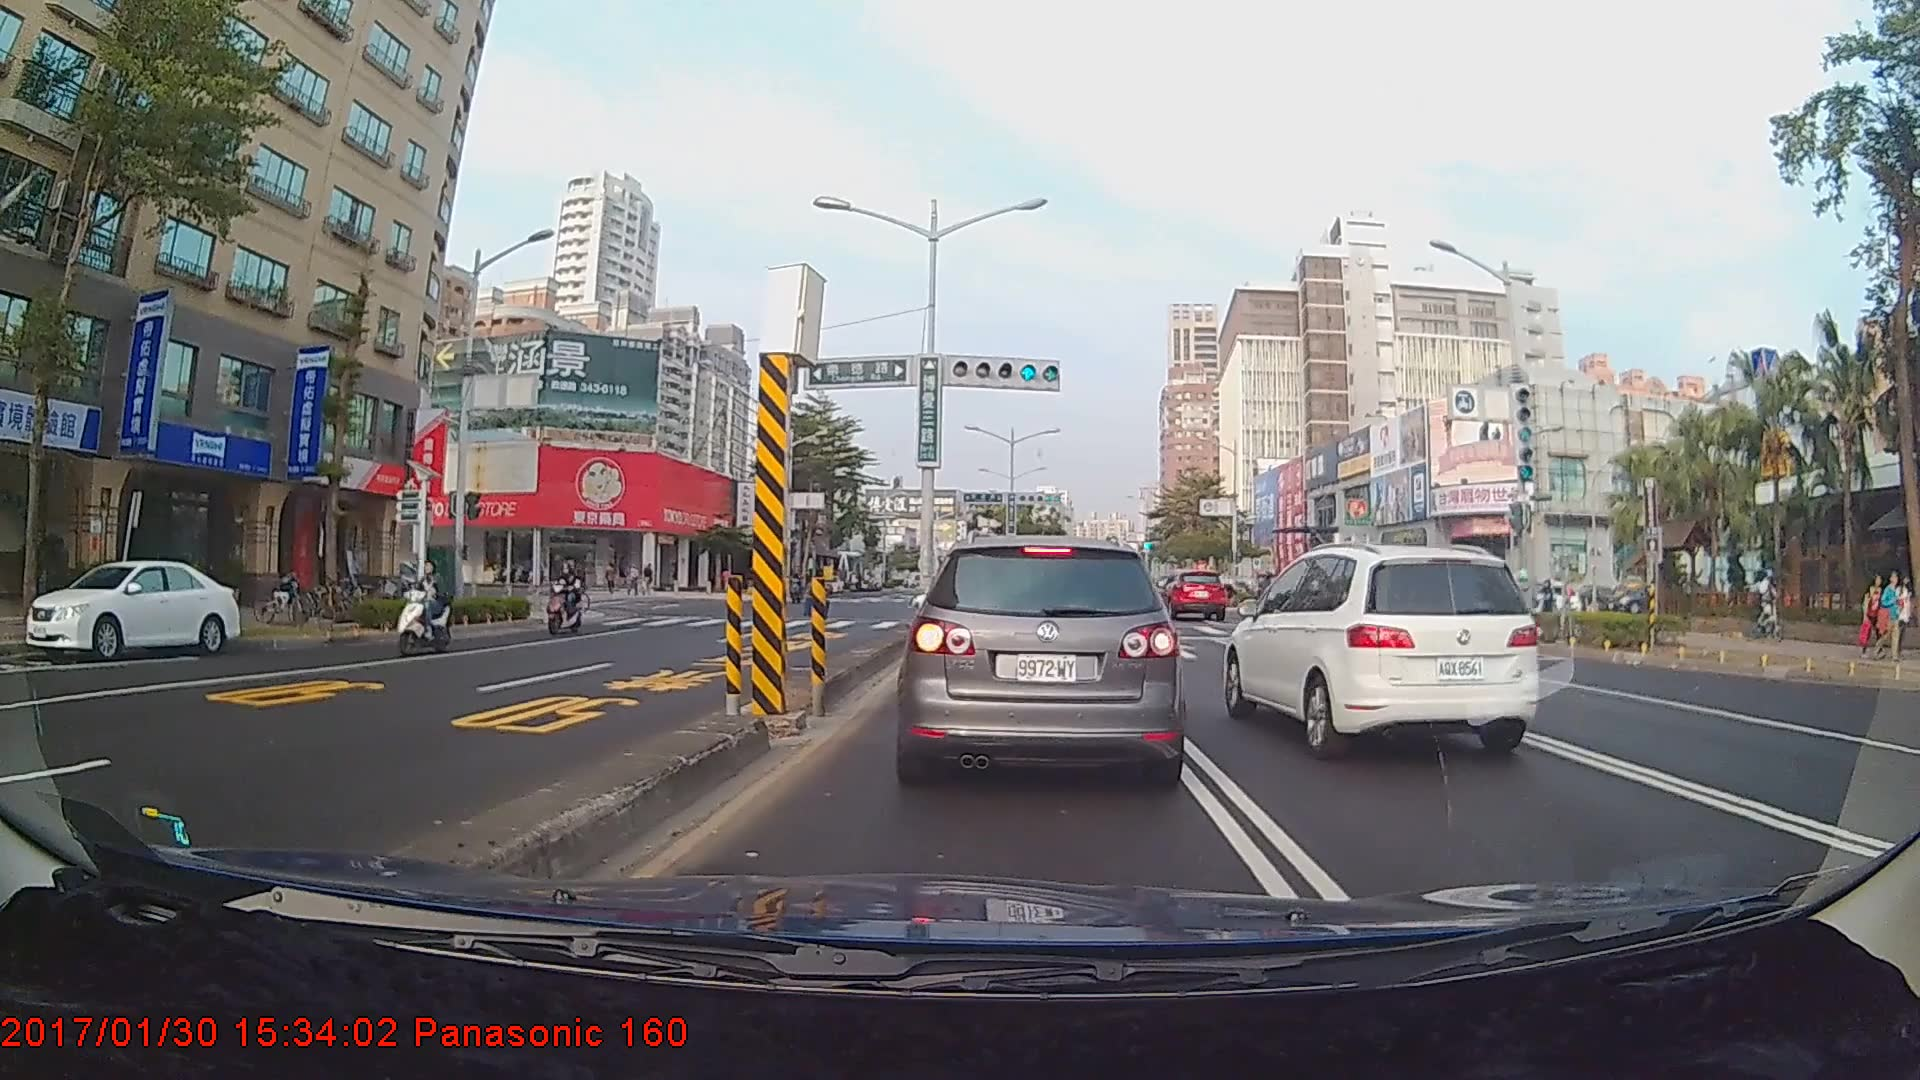pedestrian: (1859, 573, 1888, 658), (1877, 572, 1903, 663), (1887, 572, 1911, 660)
rider: (387, 557, 460, 659), (1748, 561, 1789, 645), (546, 566, 590, 639)
vehicle: (1222, 537, 1539, 767), (902, 531, 1184, 785), (26, 556, 238, 662), (1158, 569, 1226, 621)
